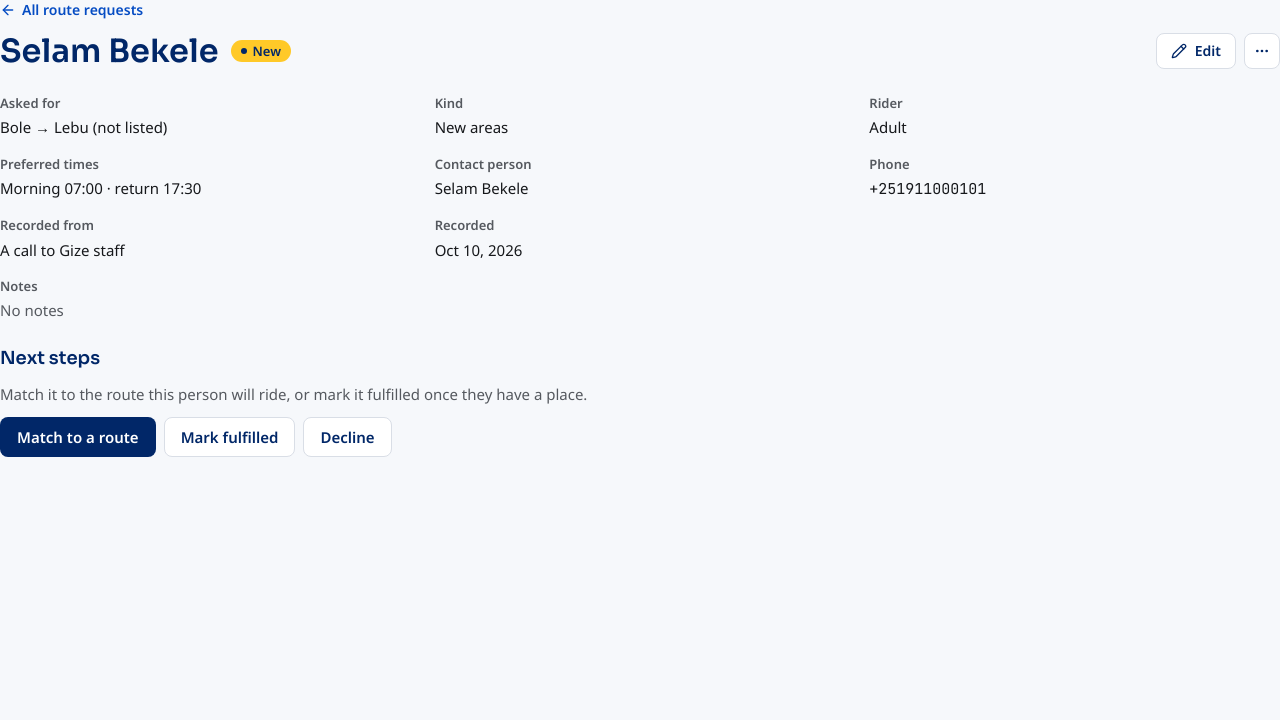
Test: RouteRequestDetail › declines with a reason it checks first
expect the heading "Selam Bekele" is shown: met, box [0,32,218,70]
Click the button "Decline" at (347, 438), box [303,418,392,458]
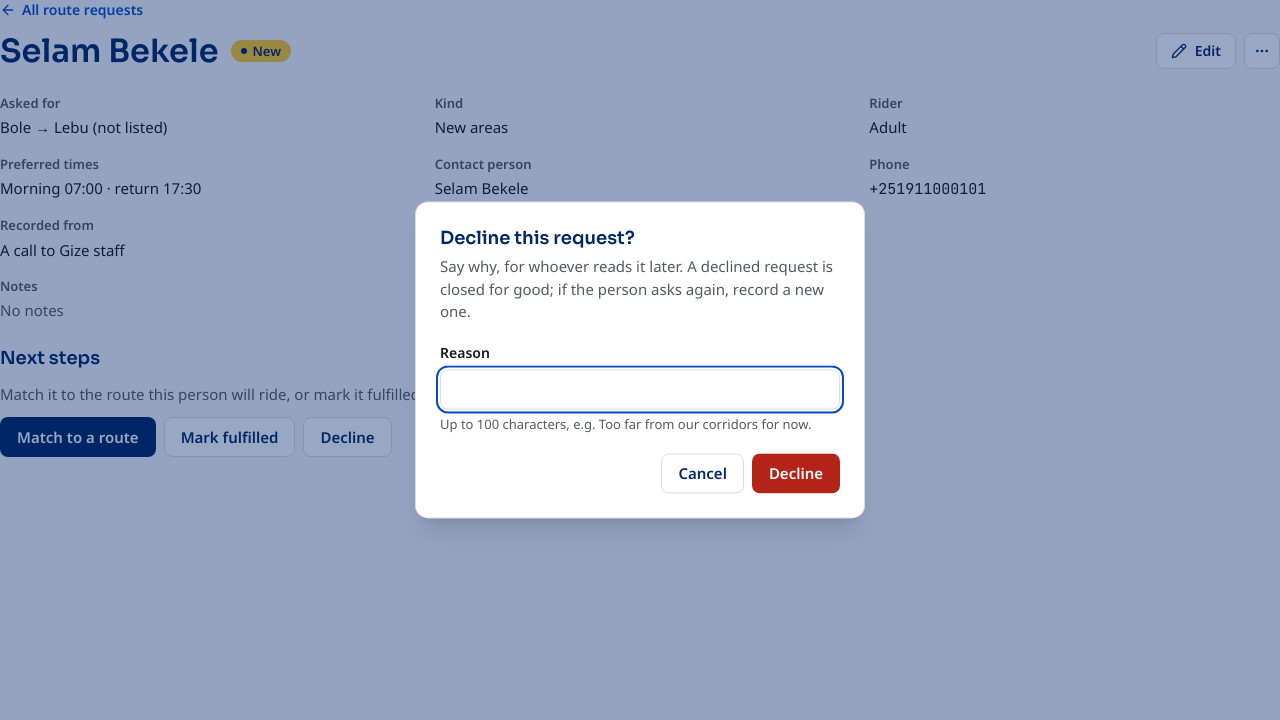
Click the button "Decline" at (796, 474), box [752,454,840,494]
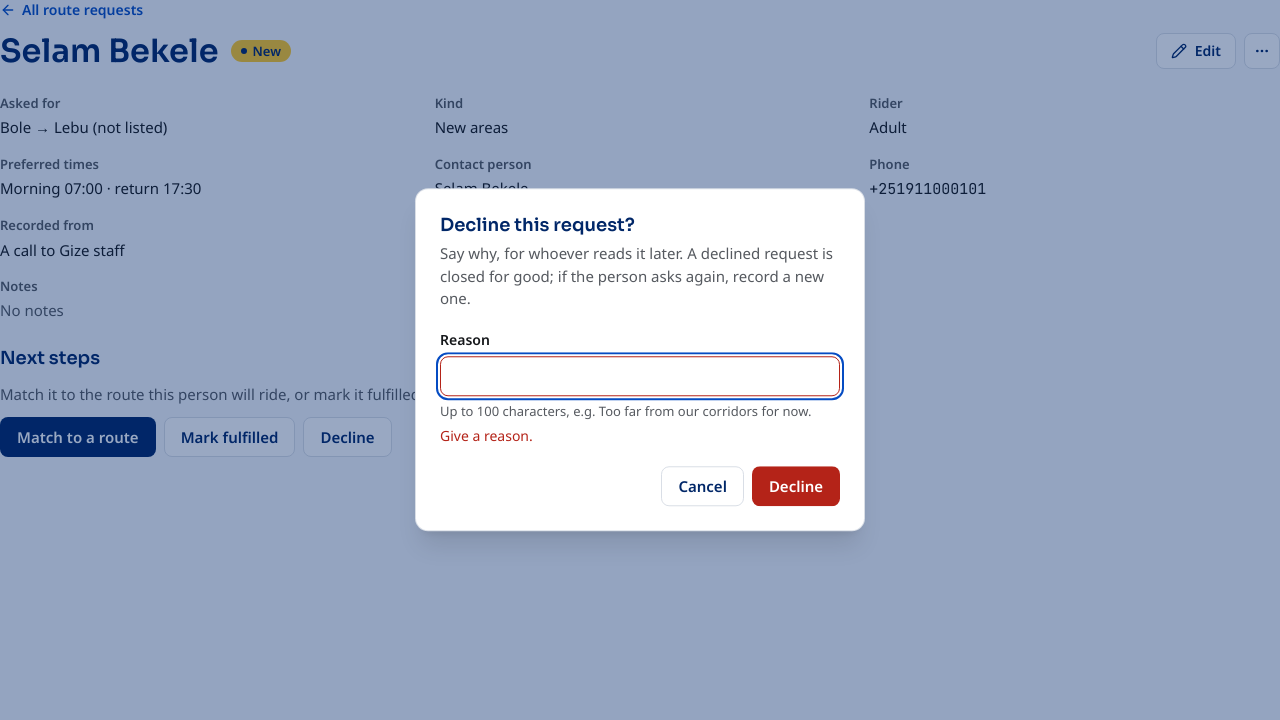
Type "  No route near Lebu yet  " into the field labelled "Reason" at (640, 376), box [440,356,840,396]
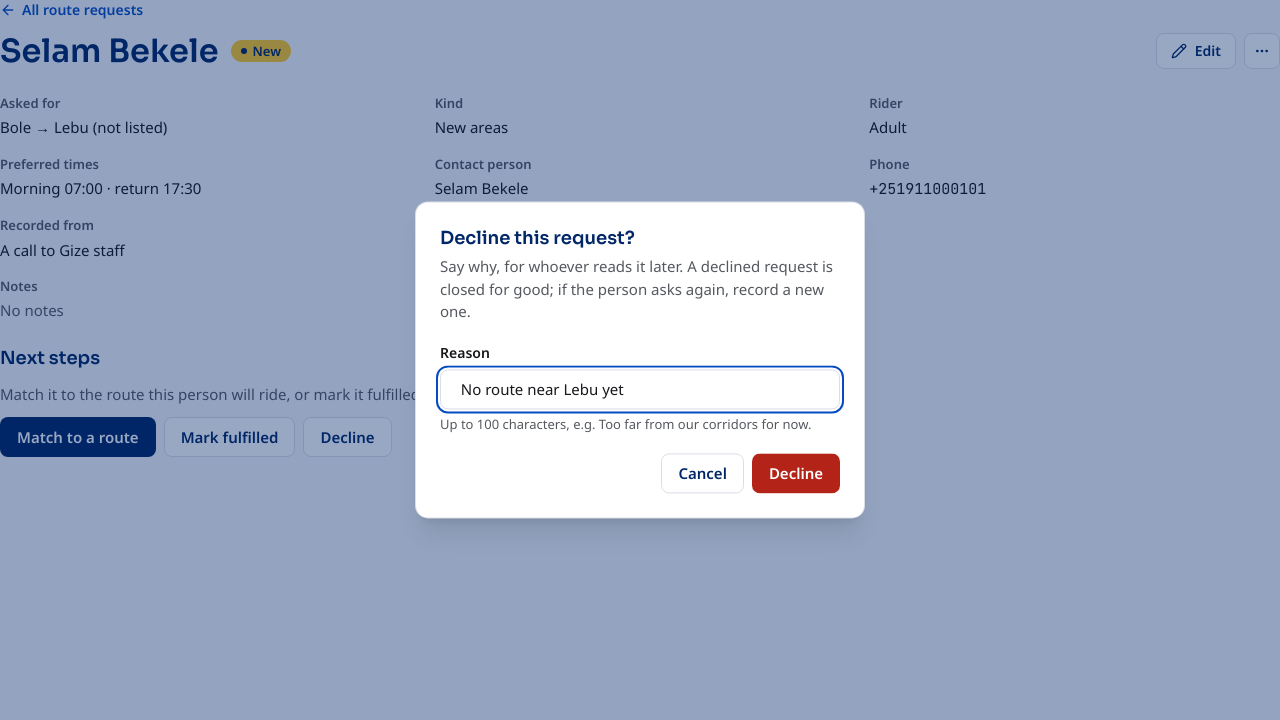
Click the button "Decline" at (796, 474), box [752,454,840,494]
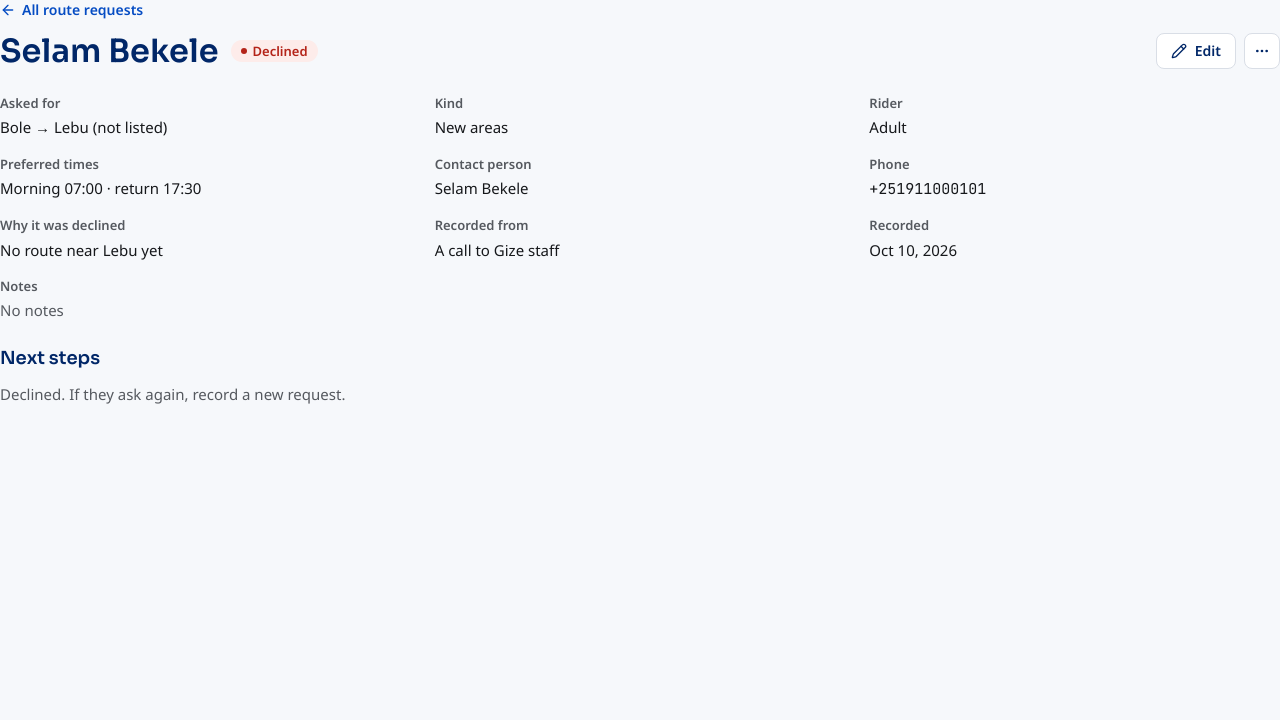
expect the text "No route near Lebu yet" is shown: met, box [0,240,163,260]
